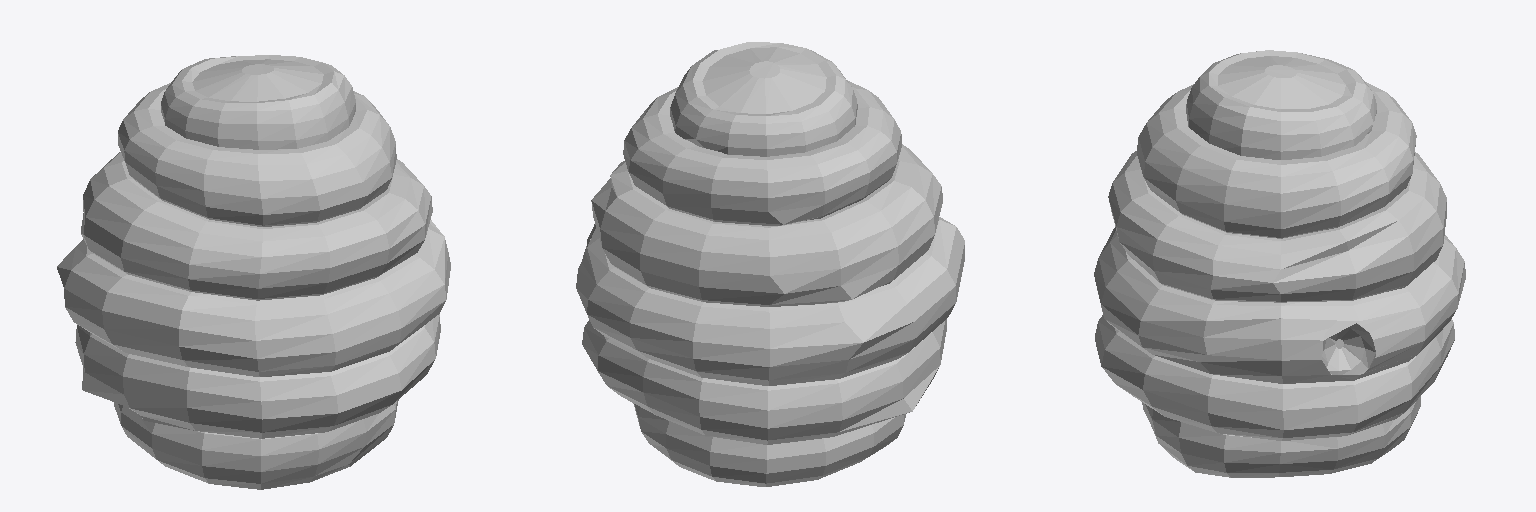
Rendered from SingleBeeHive.obj.
The picture shows the model from 3 angles: view 1: azimuth 30°, elevation 25°; view 2: azimuth 150°, elevation 25°; view 3: azimuth 270°, elevation 25°; orthographic projection.
Size of the model in its own units: 1.2 by 1.25 by 1.13.